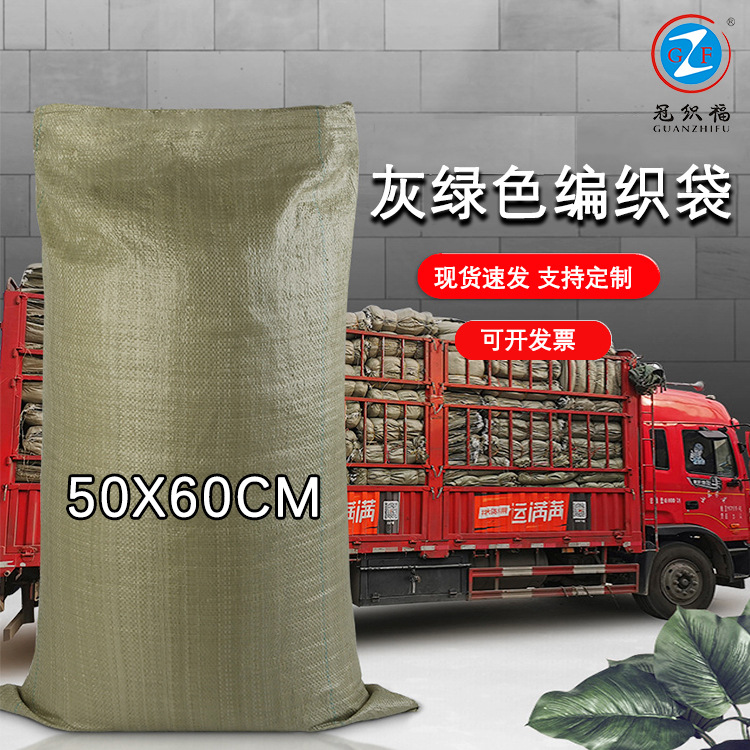塑料袋: (21, 107, 368, 730)
